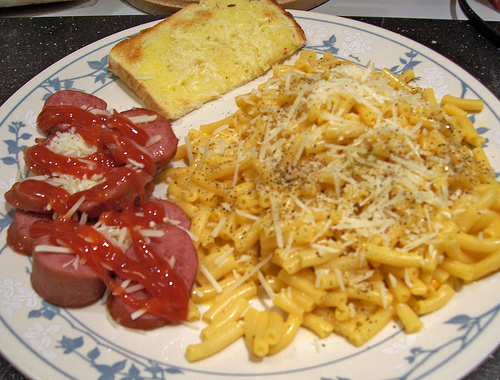macncheese: (182, 41, 500, 362)
